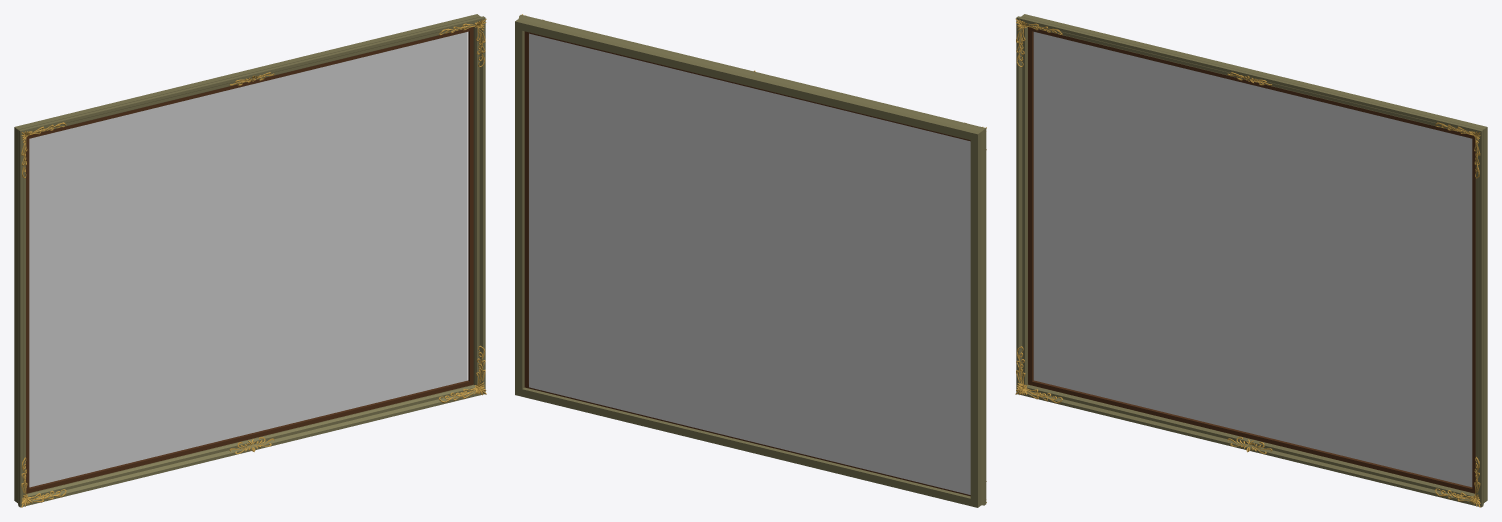
The model's file is frame001_md.glb.
3 renders of one model, left to right at view 1: azimuth 30°, elevation 25°; view 2: azimuth 150°, elevation 25°; view 3: azimuth 330°, elevation 25°, orthographic.
Visible parts, largest first — view 1: canvas_平面, frame_Cube.001, frame_inner_Cube.002, moyou001_Lines.002; view 2: canvas_平面, frame_Cube.001, frame_inner_Cube.002; view 3: canvas_平面, frame_Cube.001, frame_inner_Cube.002, moyou001_Lines.002.
Part boxes in pixels (x1=…): canvas_平面: x1=29, y1=32, x2=467, y2=487; frame_Cube.001: x1=14, y1=14, x2=485, y2=507; frame_inner_Cube.002: x1=26, y1=27, x2=473, y2=493; moyou001_Lines.002: x1=21, y1=20, x2=485, y2=505; canvas_平面: x1=529, y1=33, x2=970, y2=494; frame_Cube.001: x1=515, y1=14, x2=986, y2=507; frame_inner_Cube.002: x1=524, y1=31, x2=970, y2=496; canvas_平面: x1=1033, y1=32, x2=1472, y2=487; frame_Cube.001: x1=1016, y1=14, x2=1487, y2=507; frame_inner_Cube.002: x1=1028, y1=27, x2=1475, y2=493; moyou001_Lines.002: x1=1016, y1=20, x2=1480, y2=504.
Bounding box in the file's own units: 49.23 × 38.09 × 1.57.
